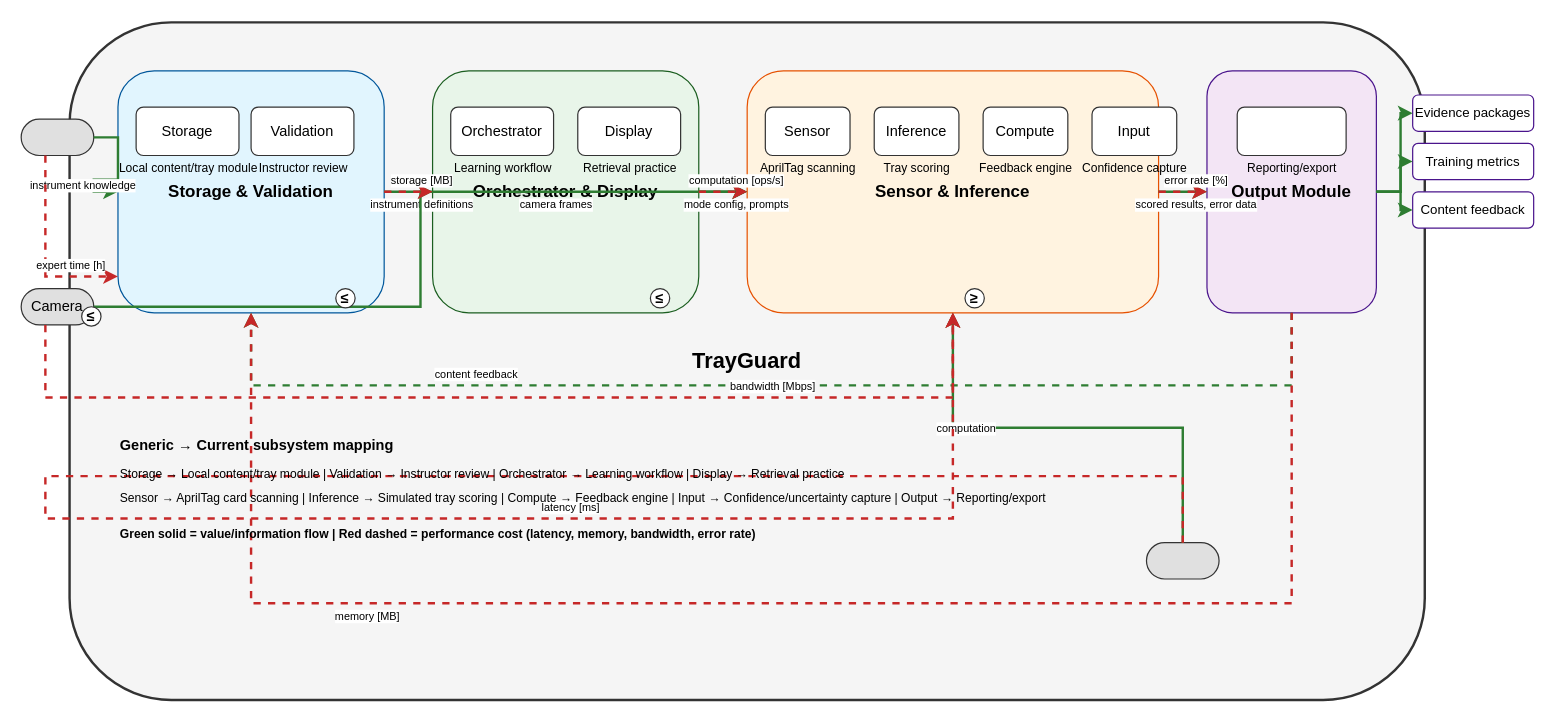
This 1555x721 diagram has some shape labels left out. Each missing label, with the centre of its shape:
Computing: pixel 1182 560
Expert: pixel 57 136
Output: pixel 1291 130
